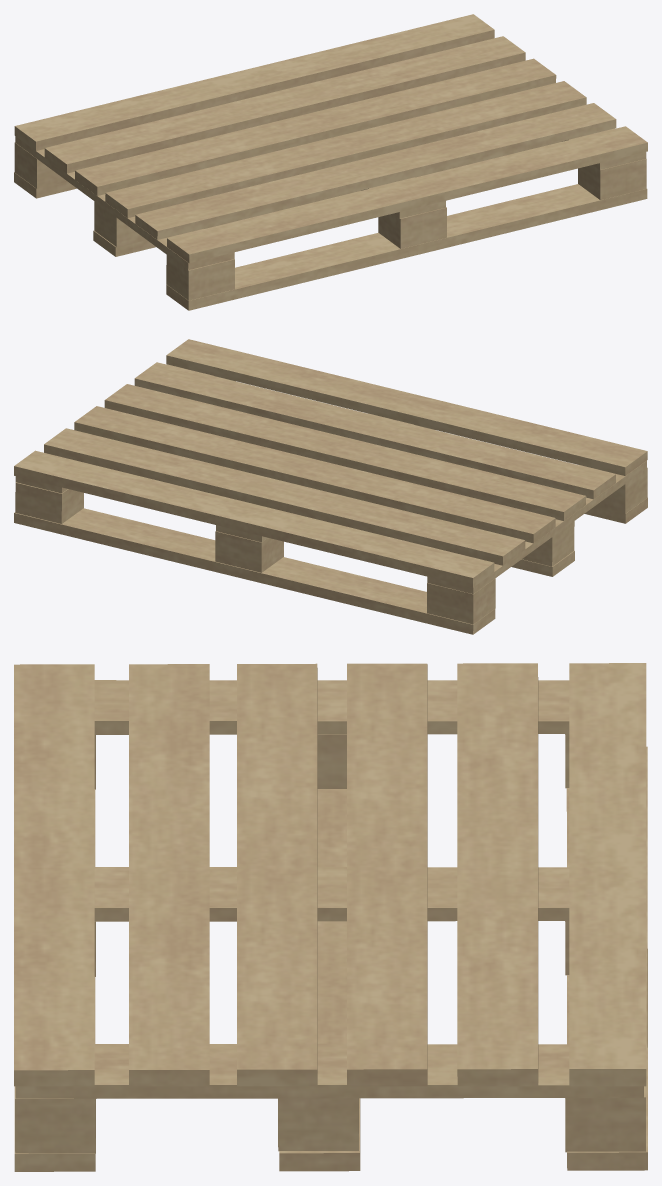
The model's file is pallet_bodega.glb.
3 renders of one model, top to bottom at view 1: azimuth 30°, elevation 25°; view 2: azimuth 150°, elevation 25°; view 3: azimuth 270°, elevation 25°, orthographic. The views are drawn at different scales.
Parts seen in each view (by area): view 1: WoodPalette_WoodPalette_0; view 2: WoodPalette_WoodPalette_0; view 3: WoodPalette_WoodPalette_0.
Part boxes in pixels (left/top/right/bottom): WoodPalette_WoodPalette_0: left=14, top=14, right=647, bottom=310; WoodPalette_WoodPalette_0: left=14, top=339, right=647, bottom=634; WoodPalette_WoodPalette_0: left=14, top=663, right=647, bottom=1171.
Size of the model in its own units: 1.35 by 0.16 by 0.8883.
Materials: 1 (1 with a texture image).
